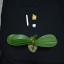leaf: (34, 35, 58, 47), (7, 34, 32, 45), (32, 34, 37, 42)
